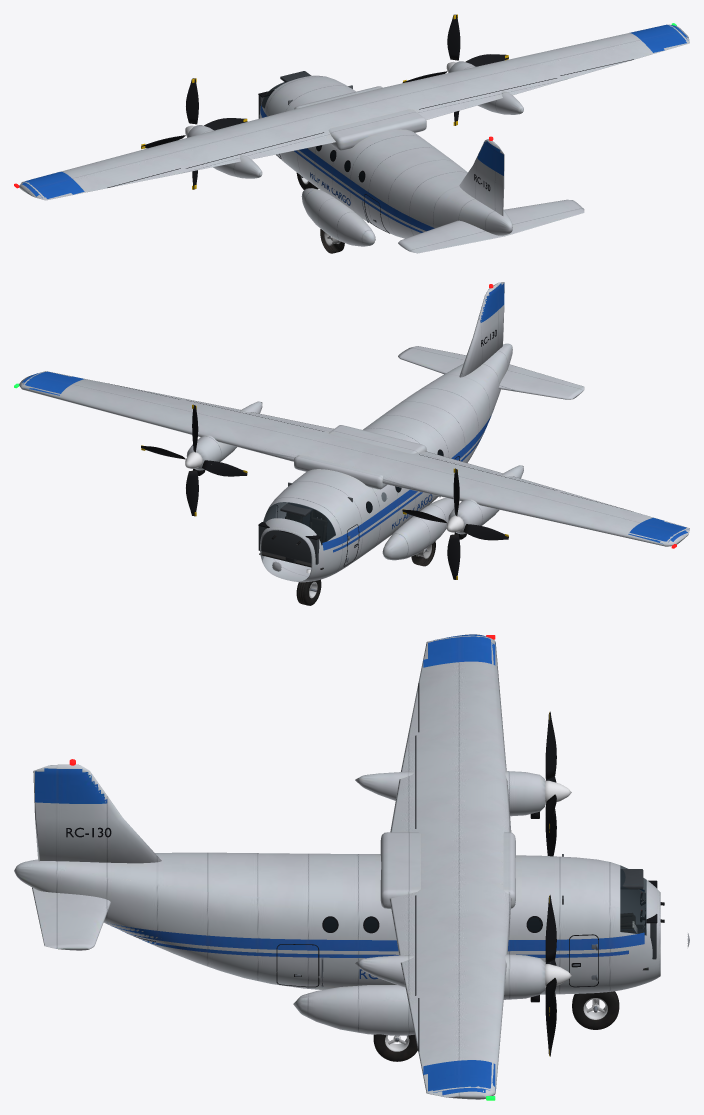
File: CargoPlane.glb
3 renders of one model, top to bottom at view 1: azimuth 30°, elevation 25°; view 2: azimuth 150°, elevation 25°; view 3: azimuth 270°, elevation 25°, orthographic. The views are drawn at different scales.
Visible parts, largest first — view 1: CargoPlane_Body, CargoPlane_Spin1, CargoPlane_Spin2, CargoPlane_Trim, CargoPlane_Trim2, CargoPlane_Interior; view 2: CargoPlane_Body, CargoPlane_Interior, CargoPlane_Spin1, CargoPlane_Spin2, CargoPlane_Glass, CargoPlane_Trim, CargoPlane_Wheel1; view 3: CargoPlane_Body, CargoPlane_Interior, CargoPlane_Glass, CargoPlane_Spin2, CargoPlane_Spin1, CargoPlane_Trim, CargoPlane_Wheel1, CargoPlane_Wheel3, CargoPlane_Trim2.
Part boxes in pixels (box(x1,y1,x2,y2)): CargoPlane_Body: box(19, 24, 689, 253); CargoPlane_Spin1: box(141, 78, 247, 189); CargoPlane_Spin2: box(402, 14, 508, 125); CargoPlane_Trim: box(276, 145, 490, 233); CargoPlane_Trim2: box(107, 59, 633, 238); CargoPlane_Interior: box(258, 71, 352, 118); CargoPlane_Body: box(19, 282, 689, 582); CargoPlane_Interior: box(258, 482, 352, 573); CargoPlane_Spin1: box(402, 468, 508, 579); CargoPlane_Spin2: box(141, 404, 247, 516); CargoPlane_Glass: box(263, 450, 443, 545); CargoPlane_Trim: box(193, 330, 496, 566); CargoPlane_Wheel1: box(296, 579, 321, 605); CargoPlane_Body: box(14, 634, 689, 1099); CargoPlane_Interior: box(562, 854, 664, 970); CargoPlane_Glass: box(324, 865, 646, 935); CargoPlane_Spin2: box(545, 895, 571, 1056); CargoPlane_Spin1: box(545, 711, 571, 856); CargoPlane_Trim: box(66, 811, 598, 1002); CargoPlane_Wheel1: box(572, 991, 619, 1029); CargoPlane_Wheel3: box(373, 1034, 417, 1061); CargoPlane_Trim2: box(127, 683, 599, 1051).
Bounding box in the file's own units: 69.7 × 18.75 × 43.02.
Materials: 14 (10 with a texture image).
